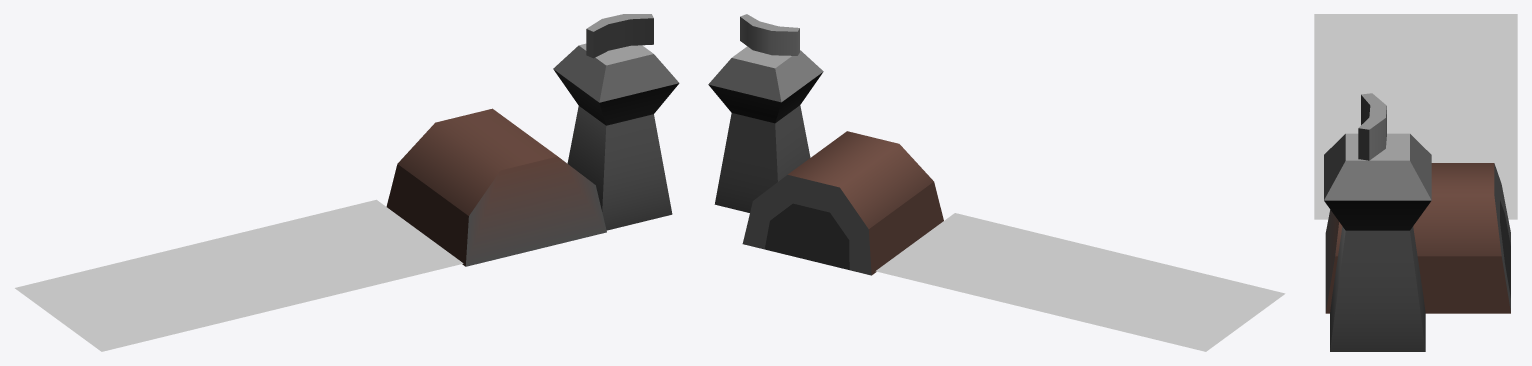
File: building_airfield.fbx
The picture shows the model from 3 angles, left to right: view 1: azimuth 30°, elevation 25°; view 2: azimuth 150°, elevation 25°; view 3: azimuth 270°, elevation 25°; orthographic projection. The views are drawn at different scales.
Visible parts, largest first — view 1: pPlane1, pCube10, pCube11, pCube12; view 2: pPlane1, pCube10, pCube11, pCube12; view 3: pPlane1, pCube11, pCube10, pCube12, pPlane8, pPlane7, pPlane6.
Boxes of the visible parts, x1,y1,x2,y2 form: pPlane1: (15,199,463,351); pCube10: (386,108,606,266); pCube11: (553,43,679,230); pCube12: (586,14,653,58); pPlane1: (875,213,1285,351); pCube10: (742,131,943,275); pCube11: (708,46,823,212); pCube12: (740,14,799,55); pPlane1: (1314,14,1517,219); pCube11: (1324,133,1431,351); pCube10: (1325,163,1510,313); pCube12: (1358,93,1386,160); pPlane8: (1408,45,1423,72); pPlane7: (1408,81,1423,107); pPlane6: (1408,117,1423,143).
Size of the model in its own units: 8.17 by 2.54 by 2.12.
